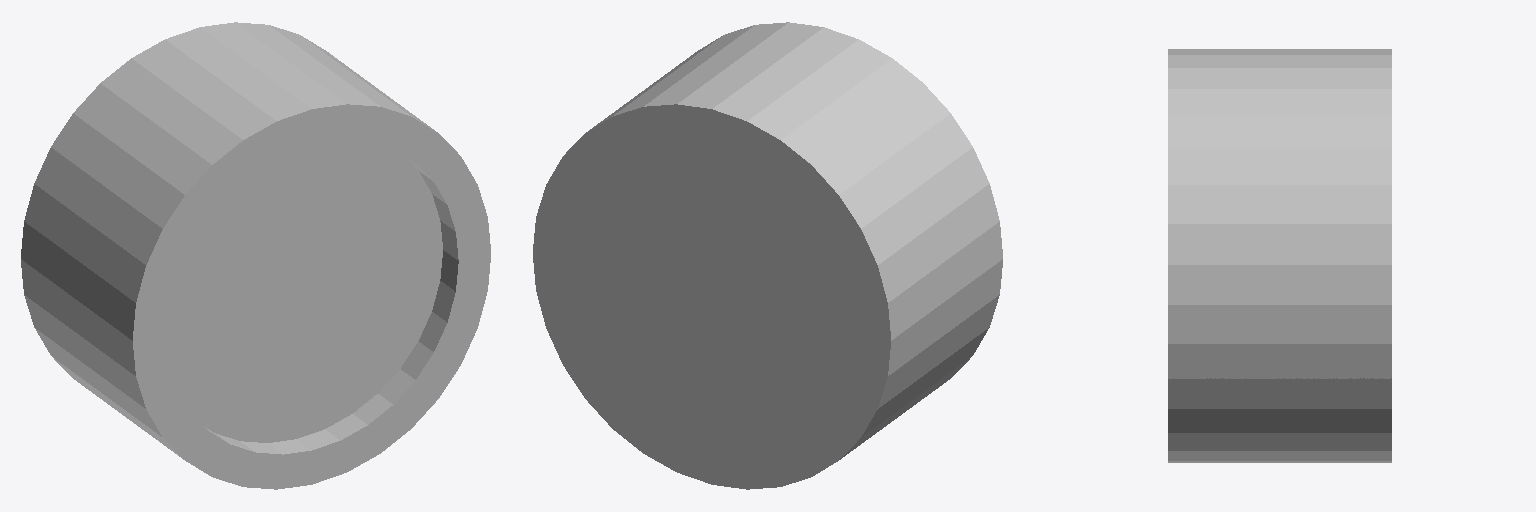
File: laser_emitter.obj
The picture shows the model from 3 angles: view 1: azimuth 30°, elevation 25°; view 2: azimuth 150°, elevation 25°; view 3: azimuth 270°, elevation 25°; orthographic projection.
Parts seen in each view (by area): view 1: Cylinder; view 2: Cylinder; view 3: Cylinder.
Boxes of the visible parts, x1,y1,x2,y2 form: Cylinder: [21, 22, 490, 489]; Cylinder: [533, 22, 1002, 489]; Cylinder: [1168, 49, 1391, 462].
Size of the model in its own units: 0.2806 by 0.2806 by 0.1518.